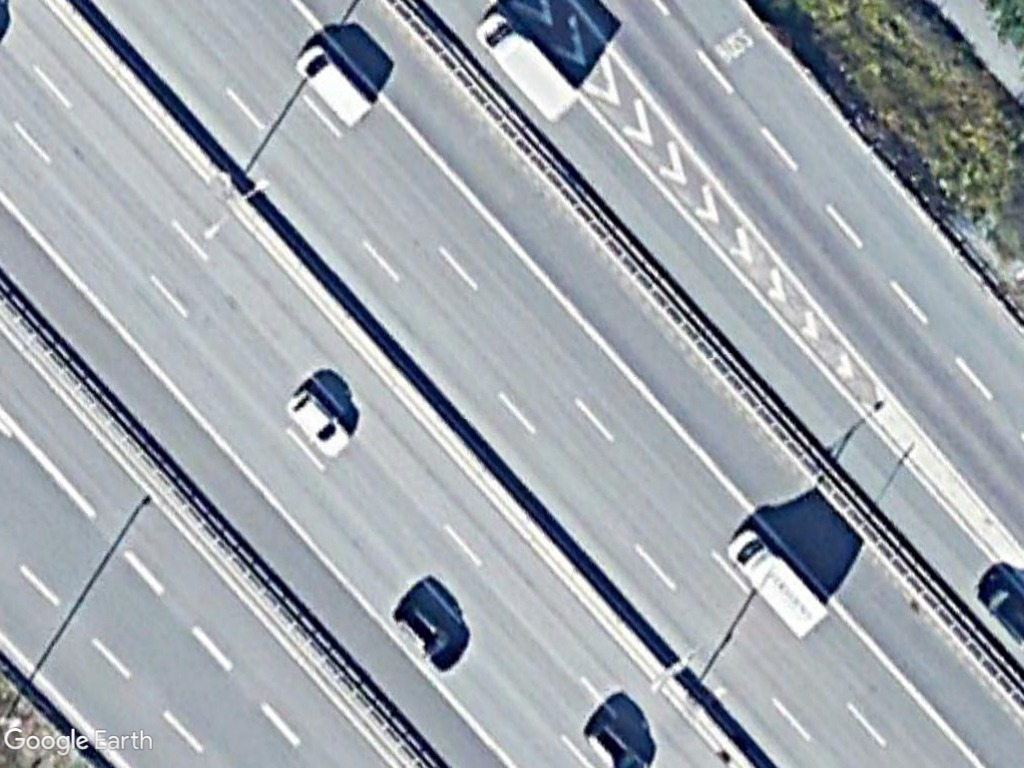car: (390, 603, 467, 676), (285, 386, 358, 460)
van: (719, 523, 830, 651), (476, 10, 586, 128), (293, 46, 375, 135)
